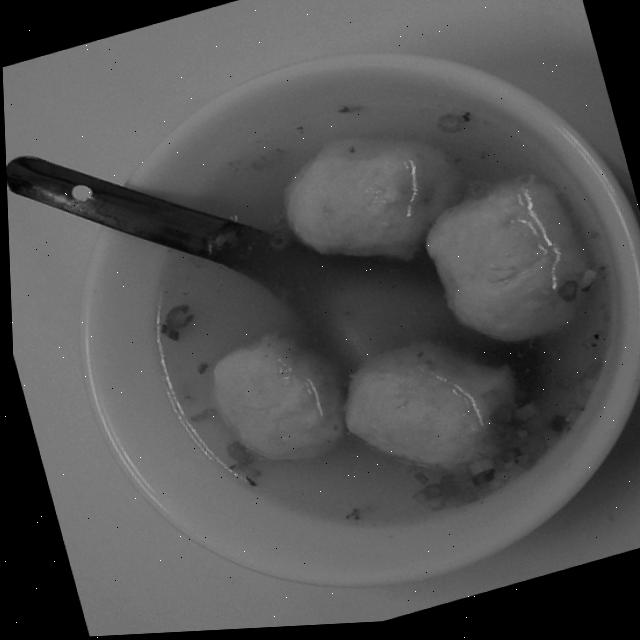熟制海鲜: (41, 0, 640, 638)
